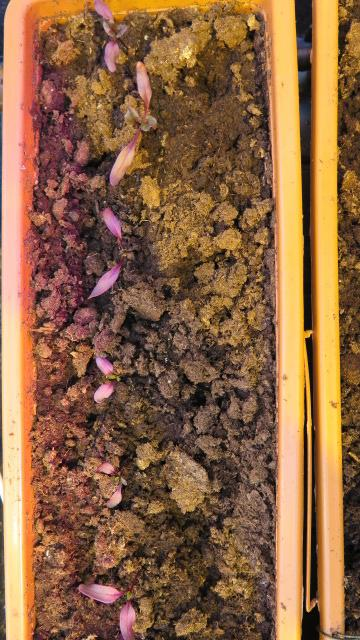crop: (84, 198, 124, 301), (91, 455, 129, 508), (91, 348, 120, 405)
